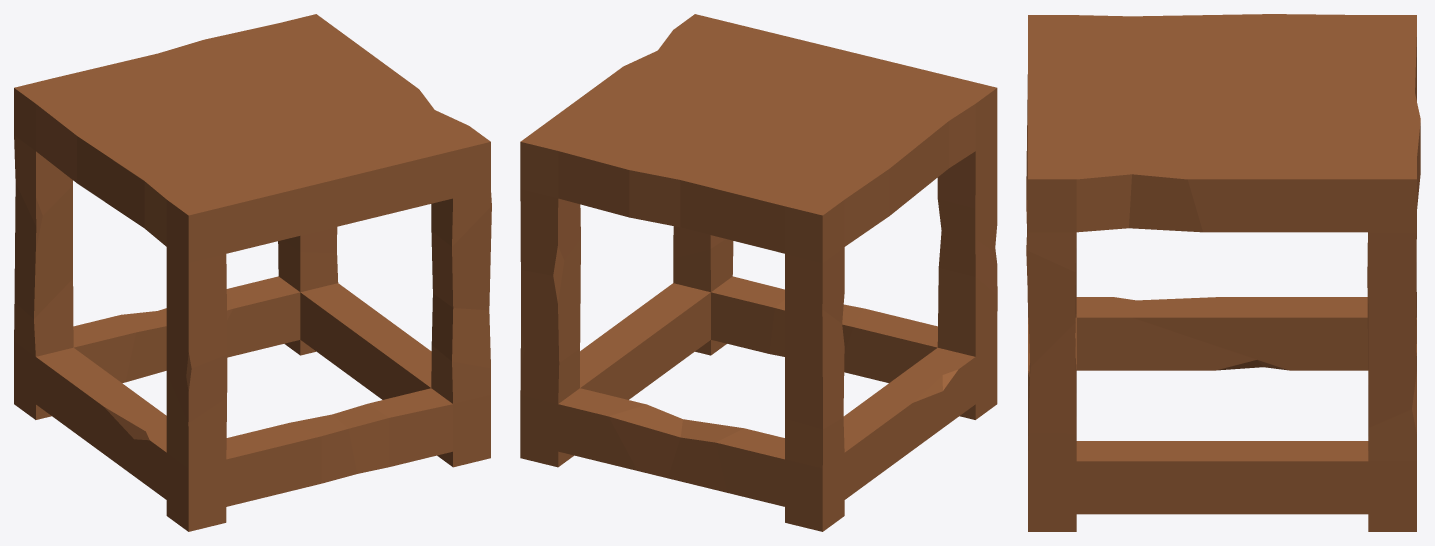
The model's file is Workshop_Counter_Single.fbx.
3 views of the same model, side by side, from view 1: azimuth 30°, elevation 25°; view 2: azimuth 150°, elevation 25°; view 3: azimuth 270°, elevation 25° (orthographic). The views are drawn at different scales.
Visible parts, largest first — view 1: Cube; view 2: Cube; view 3: Cube.
Boxes of the visible parts, bbox=[...] form: Cube: bbox=[14, 14, 491, 531]; Cube: bbox=[520, 14, 997, 531]; Cube: bbox=[1026, 14, 1420, 531].
Size of the model in its own units: 202 by 200 by 203.
